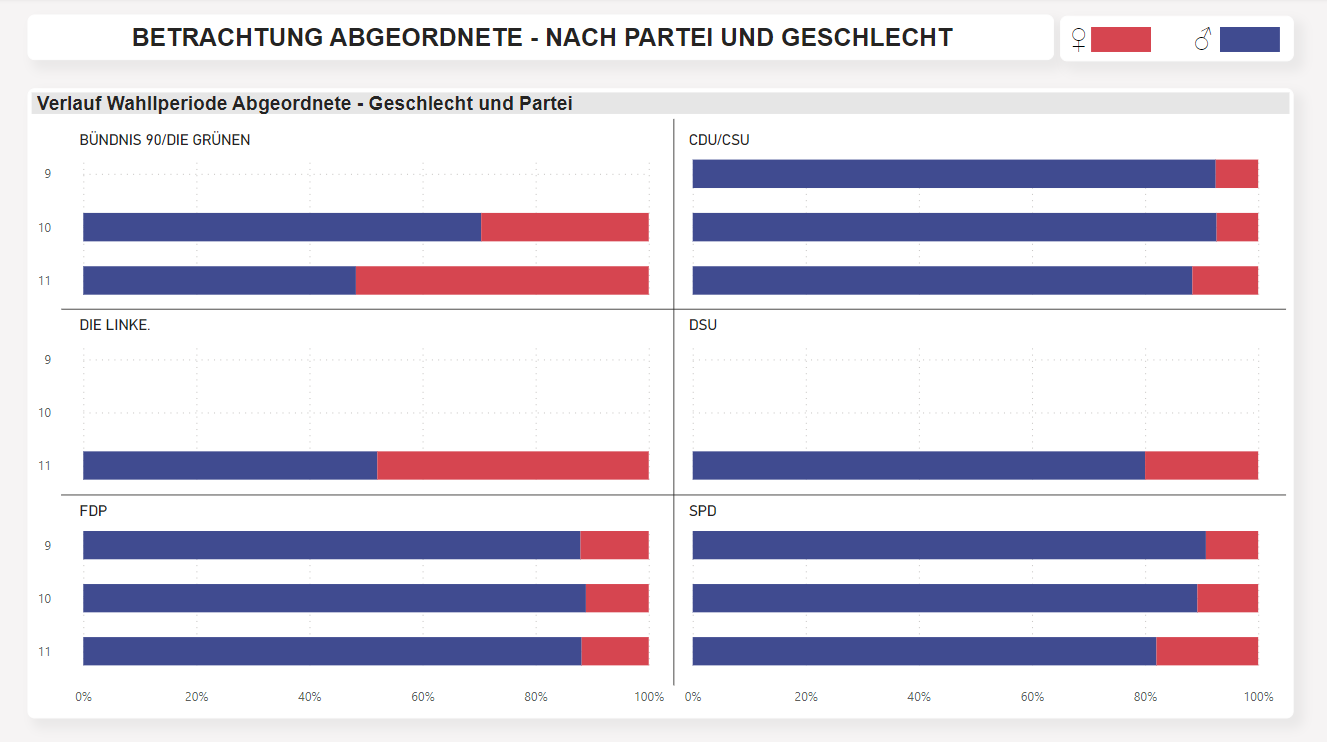

The dashboard page shown, as its layout file describes it:
{"tool":"powerbi","page":{"name":"Abgeordnete - ♀♂ + Partei","canvas":[1280,720],"ordinal":1},"visuals":[{"type":"textbox","box":[1022.5,18.2,225.7,43.9],"z":0,"group":"g1"},{"type":"textbox","box":[26.9,17.4,990.5,44.3],"z":1000},{"type":"shape","box":[1052.8,28.8,57.6,24.2],"z":1000,"group":"g1"},{"type":"shape","box":[1177,28.8,57.6,24.2],"z":2000,"group":"g1"},{"type":"group","id":"g1","title":"Gruppe 1","box":[1022.5,18.2,225.7,43.9],"z":6000},{"type":"hundredPercentStackedBarChart","title":"Verlauf Wahllperiode Abgeordnete - Geschlecht und Partei","fields":{"Y":["CountNonNull(stammdaten_bereinigt_1-7.ID)"],"Rows":["stammdaten_bereinigt_1-7.PARTEI_KURZ"],"Category":["stammdaten_bereinigt_1-7.WP"],"Series":["stammdaten_bereinigt_1-7.GESCHLECHT"]},"box":[26.5,88,1221.7,607.8],"z":7000}]}

Visuals, with their boxes in screenshot pixels (x1, y1, x2, y2), scaled from the page's 1280x720 canvas onto the 1327x742 screenshot:
textbox: bbox=(1060, 19, 1294, 64)
textbox: bbox=(28, 18, 1055, 64)
shape: bbox=(1091, 30, 1151, 55)
shape: bbox=(1220, 30, 1280, 55)
"Gruppe 1" group: bbox=(1060, 19, 1294, 64)
"Verlauf Wahllperiode Abgeordnete - Geschlecht und Partei" hundredPercentStackedBarChart: bbox=(27, 91, 1294, 717)
